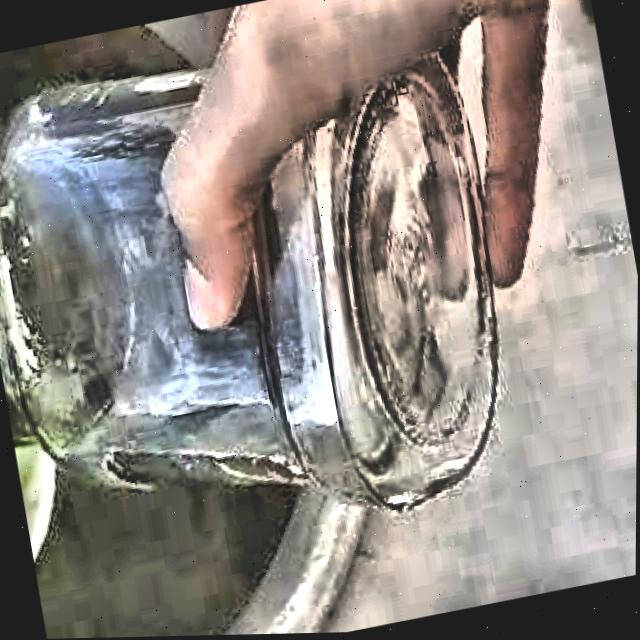glass: (0, 59, 496, 508)
